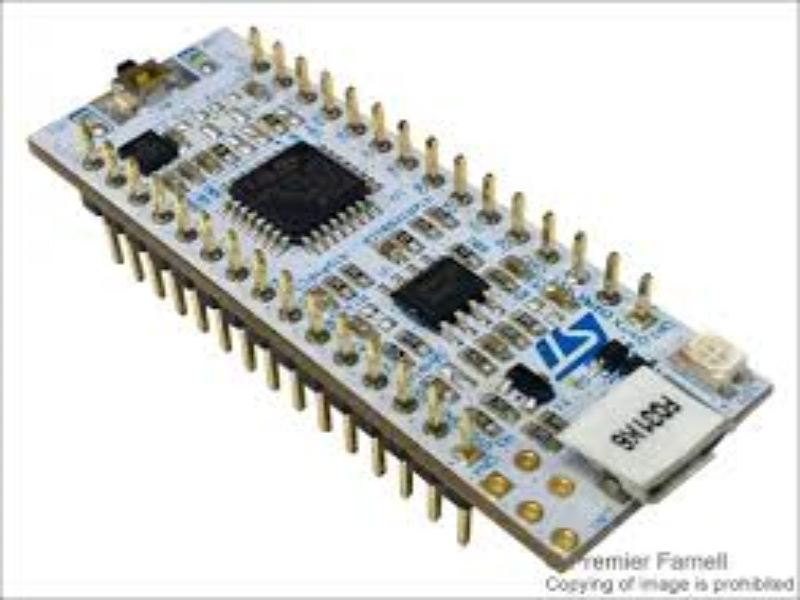stmnucleo: (51, 15, 760, 545)
